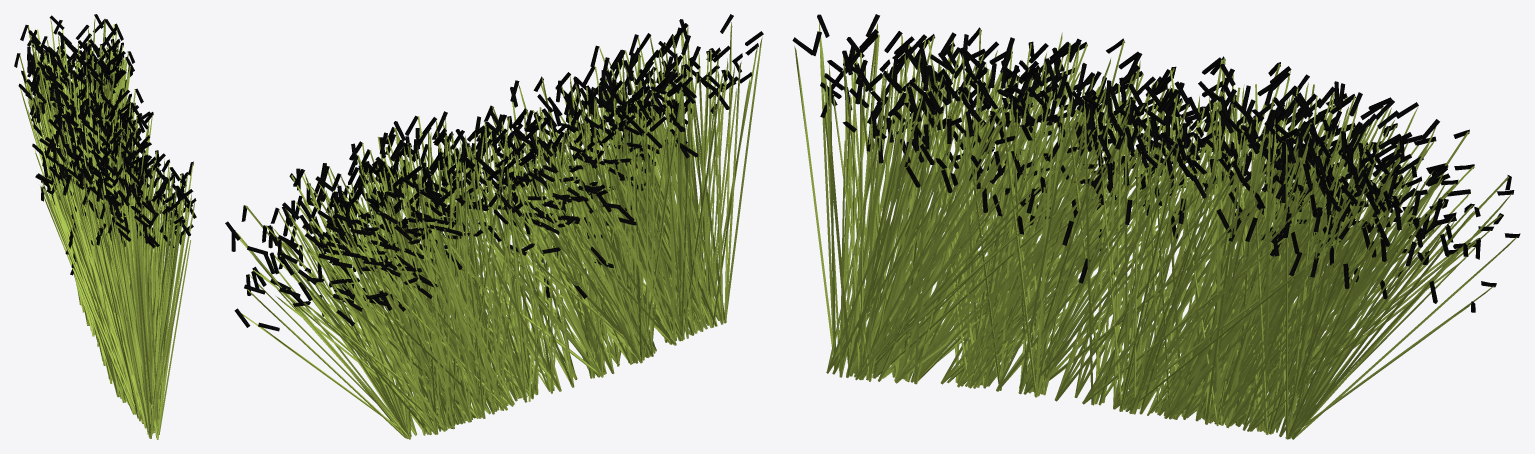
The model's file is RiceAutumn.fbx.
3 views of the same model, side by side, from view 1: azimuth 30°, elevation 25°; view 2: azimuth 150°, elevation 25°; view 3: azimuth 270°, elevation 25° (orthographic). The views are drawn at different scales.
Parts seen in each view (by area): view 1: riceAutumn1Main, riceAutumn1Flower; view 2: riceAutumn1Main, riceAutumn1Flower; view 3: riceAutumn1Main, riceAutumn1Flower.
Boxes of the visible parts, x1,y1,x2,y2 form: riceAutumn1Main: [19, 17, 195, 439]; riceAutumn1Flower: [14, 14, 196, 275]; riceAutumn1Main: [236, 22, 762, 439]; riceAutumn1Flower: [225, 14, 763, 331]; riceAutumn1Main: [794, 22, 1518, 439]; riceAutumn1Flower: [792, 14, 1520, 312].
Size of the model in its own units: 3.93 by 4.3 by 8.02.
